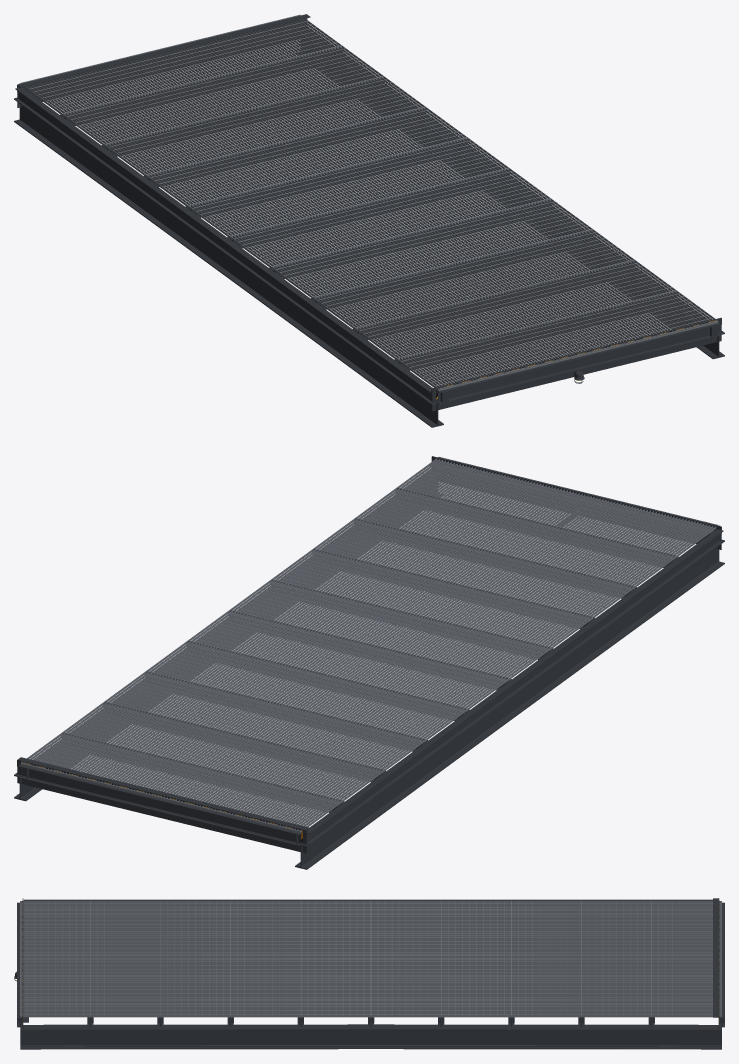
Rendered from foundry_deck.glb.
3 views of the same model, one above another, from view 1: azimuth 30°, elevation 25°; view 2: azimuth 150°, elevation 25°; view 3: azimuth 270°, elevation 25° (orthographic). The views are drawn at different scales.
Visible parts, largest first — view 1: deck_grating9, deck_grating7, deck_grating1, deck_grating6, deck_grating2, deck_grating3, deck_grating8, deck_grating4, deck_grating5, deck_grating0, deck_joists, deck_primary_n (+5 smaller); view 2: deck_grating8, deck_grating1, deck_grating2, deck_grating3, deck_grating6, deck_grating7, deck_grating4, deck_grating5, deck_grating9, deck_joists, deck_grating0, deck_primary_n (+6 smaller); view 3: deck_primary_p, deck_grating2, deck_grating8, deck_grating1, deck_grating3, deck_grating6, deck_grating7, deck_grating9, deck_grating5, deck_grating4, deck_grating0, deck_end_beam (+4 smaller).
Part boxes in pixels (<box>): deck_grating9: <box>397,290,718,390</box>; deck_grating7: <box>313,229,634,329</box>; deck_grating1: <box>62,45,383,145</box>; deck_grating6: <box>271,198,592,298</box>; deck_grating2: <box>104,76,425,176</box>; deck_grating3: <box>146,106,466,207</box>; deck_grating8: <box>355,259,675,360</box>; deck_grating4: <box>188,137,508,237</box>; deck_grating5: <box>229,168,550,268</box>; deck_grating0: <box>20,14,341,115</box>; deck_joists: <box>18,31,720,403</box>; deck_primary_n: <box>14,97,443,427</box>; deck_grating8: <box>355,487,676,587</box>; deck_grating1: <box>63,701,383,802</box>; deck_grating2: <box>104,671,425,771</box>; deck_grating3: <box>146,640,467,740</box>; deck_grating6: <box>272,548,592,649</box>; deck_grating7: <box>313,518,634,618</box>; deck_grating4: <box>188,610,509,710</box>; deck_grating5: <box>230,579,550,679</box>; deck_grating9: <box>397,457,718,557</box>; deck_joists: <box>18,473,720,845</box>; deck_grating0: <box>20,732,341,832</box>; deck_primary_n: <box>295,539,724,869</box>; deck_primary_p: <box>20,1024,721,1049</box>; deck_grating2: <box>511,901,581,1017</box>; deck_grating8: <box>90,901,160,1017</box>; deck_grating1: <box>581,901,651,1017</box>; deck_grating3: <box>441,901,511,1017</box>; deck_grating6: <box>230,901,300,1017</box>; deck_grating7: <box>160,901,230,1017</box>; deck_grating9: <box>20,901,90,1017</box>; deck_grating5: <box>300,901,370,1017</box>; deck_grating4: <box>371,901,441,1017</box>; deck_grating0: <box>651,901,721,1017</box>; deck_end_beam: <box>23,899,712,900</box>.
Size of the model in its own units: 4.06 by 0.4996 by 10.13.
5 materials, 1 textured.
